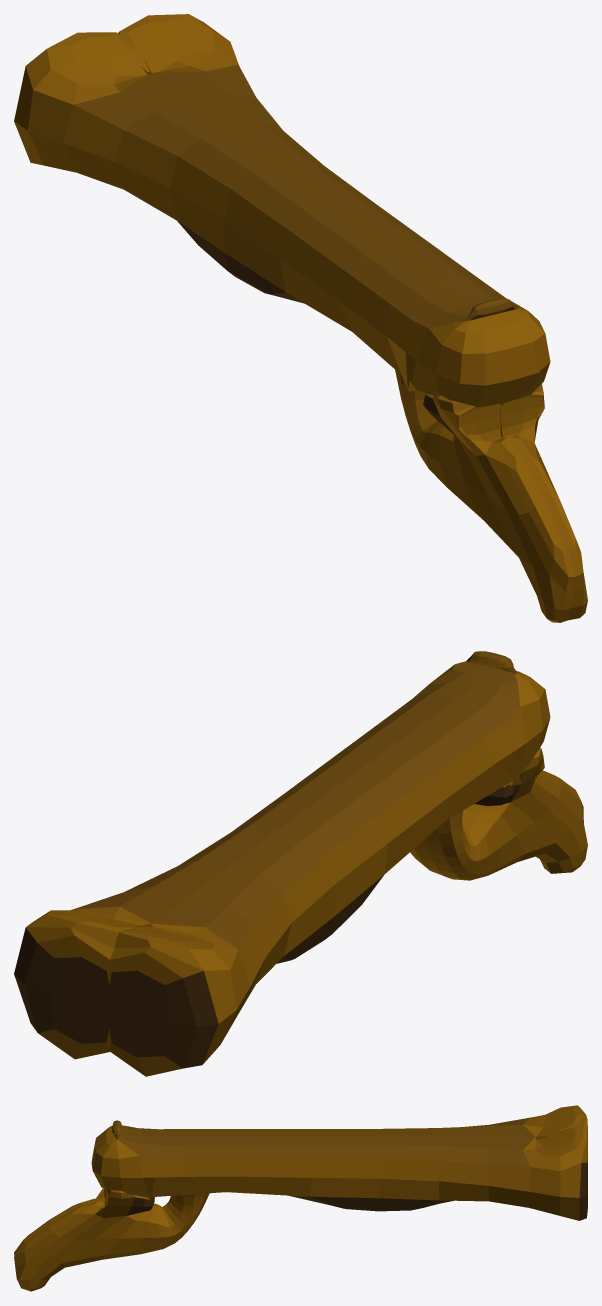
The model's file is PeanutBrittleShotty.fbx.
The picture shows the model from 3 angles, top to bottom: view 1: azimuth 30°, elevation 25°; view 2: azimuth 150°, elevation 25°; view 3: azimuth 270°, elevation 25°; orthographic projection. The views are drawn at different scales.
Parts seen in each view (by area): view 1: Cube; view 2: Cube; view 3: Cube.
Boxes of the visible parts, box(x1,y1,x2,y2) form: Cube: box(14, 14, 587, 622); Cube: box(14, 651, 587, 1076); Cube: box(14, 1105, 587, 1291).
Size of the model in its own units: 397 by 489 by 1538.
